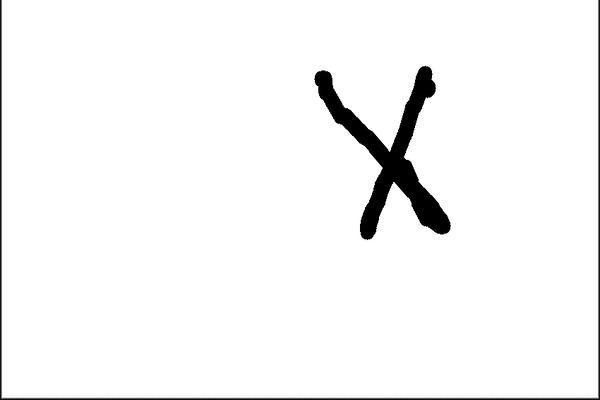X: (294, 51, 458, 247)
